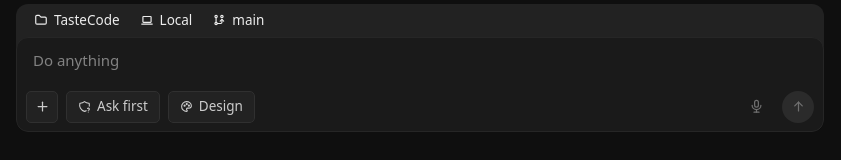
Test: Composer voice dictation › discards a recording without uploading it
This screenshot has width=841, height=160.
Step 1. Click the button named "Record voice note" → (756,107), box [740,91,772,123]
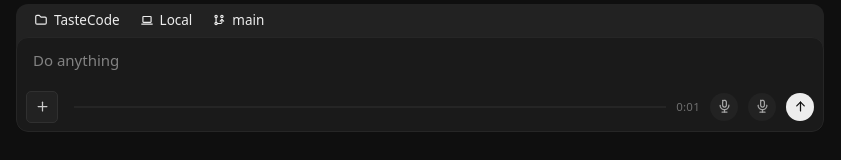
Step 2. Click the button named "Discard voice note" → (724,107), box [710,93,738,121]
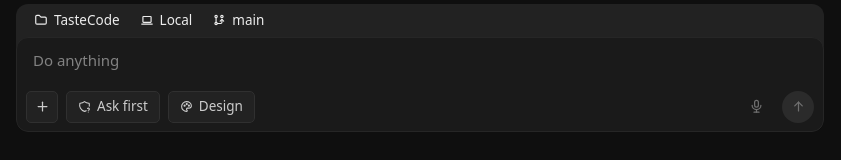
expect the button named "Record voice note" is shown: met, box [740,91,772,123]
